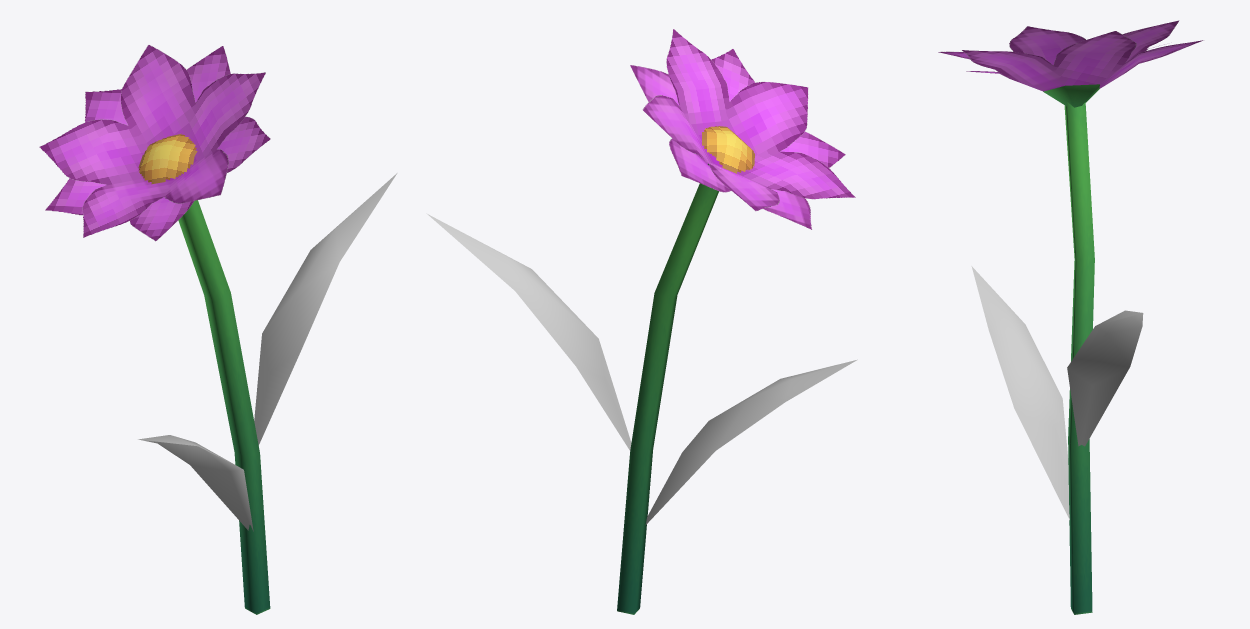
The model's file is Flower_Violet_2.fbx.
3 renders of one model, left to right at view 1: azimuth 30°, elevation 25°; view 2: azimuth 150°, elevation 25°; view 3: azimuth 270°, elevation 25°, orthographic. The views are drawn at different scales.
Visible parts, largest first — view 1: Cone.102, Cube.086, object6.075, Cone.103, object6.076, Cone.101; view 2: Cone.102, Cube.086, object6.075, Cone.103, object6.076, Cone.101; view 3: Cube.086, object6.076, Cone.103, object6.075, Cone.102, Cone.104.
Part boxes in pixels (left/top/right/bottom): Cone.102: left=39, top=45, right=265, bottom=237; Cube.086: left=178, top=200, right=270, bottom=614; object6.075: left=254, top=173, right=397, bottom=445; Cone.103: left=45, top=46, right=270, bottom=241; object6.076: left=138, top=435, right=253, bottom=531; Cone.101: left=138, top=133, right=197, bottom=184; Cone.102: left=642, top=29, right=855, bottom=211; Cube.086: left=617, top=164, right=718, bottom=614; object6.075: left=426, top=213, right=631, bottom=450; Cone.103: left=630, top=49, right=845, bottom=229; object6.076: left=645, top=359, right=857, bottom=524; Cone.101: left=702, top=126, right=754, bottom=173; Cube.086: left=1064, top=102, right=1094, bottom=614; object6.076: left=971, top=266, right=1069, bottom=519; Cone.103: left=962, top=31, right=1203, bottom=91; object6.075: left=1067, top=310, right=1143, bottom=446; Cone.102: left=938, top=20, right=1179, bottom=64; Cone.104: left=1043, top=84, right=1099, bottom=107.
Bounding box in the file's own units: 47.1 × 66.2 × 33.2.
